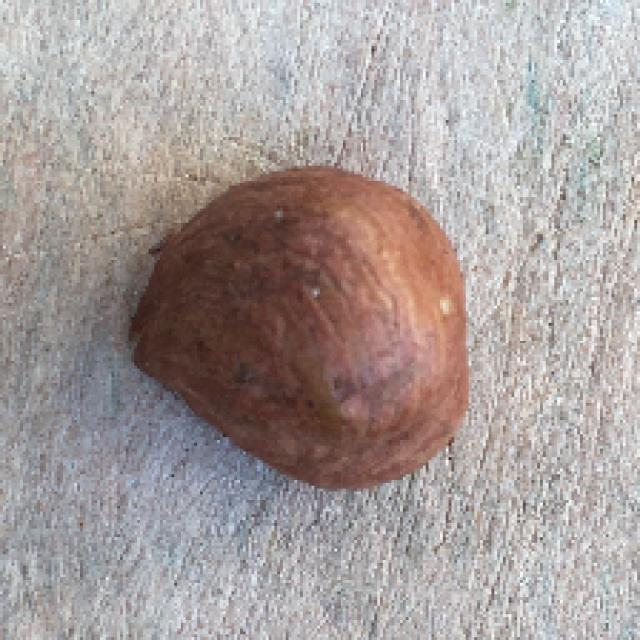hazelnut: (112, 152, 485, 498)
